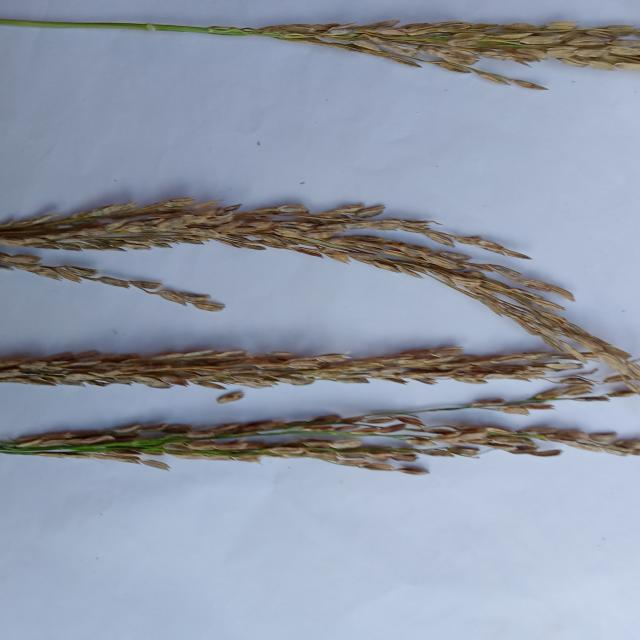Neck_Blast: (0, 208, 633, 353), (0, 415, 640, 468), (224, 20, 636, 71), (0, 349, 545, 386)
